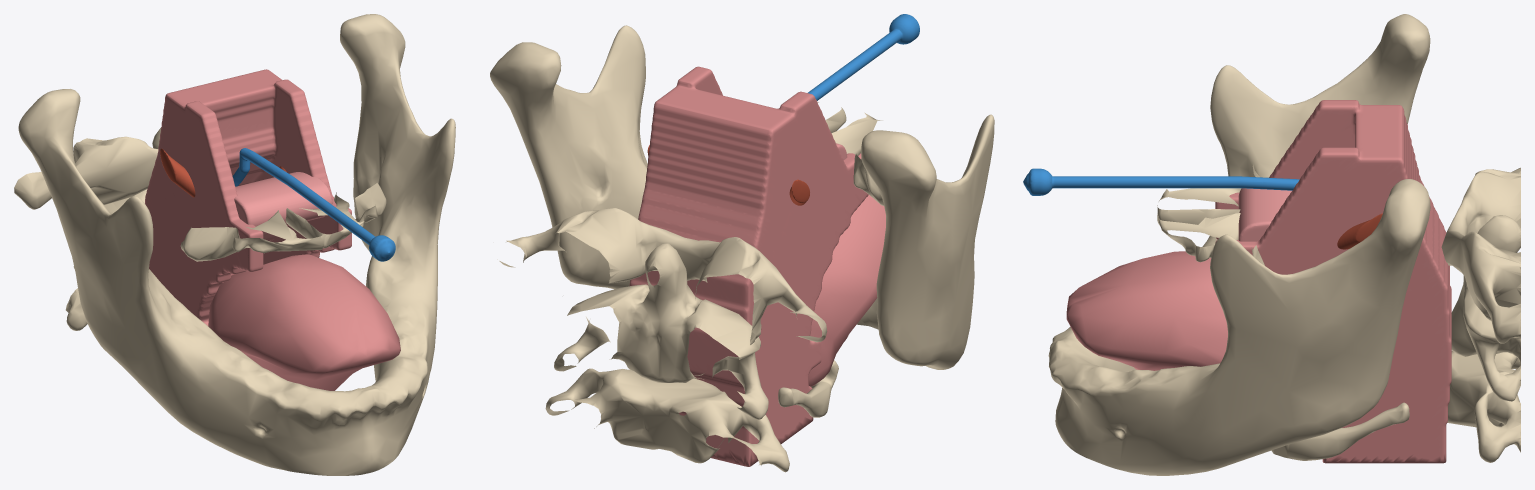
File: rest-whole.glb
3 renders of one model, left to right at view 1: azimuth 30°, elevation 25°; view 2: azimuth 150°, elevation 25°; view 3: azimuth 270°, elevation 25°, orthographic. The views are drawn at different scales.
Parts seen in each view (by area): view 1: bone (×5), mucosa, tongue, soft, air, muscle; view 2: bone (×6), mucosa, tongue, air; view 3: bone (×7), mucosa, tongue, air, soft, muscle.
Boxes of the visible parts, bbox=[...] form: bone (×5): bbox=[14, 14, 455, 475]; mucosa: bbox=[145, 69, 351, 325]; tongue: bbox=[208, 254, 400, 390]; soft: bbox=[234, 172, 332, 241]; air: bbox=[232, 148, 395, 261]; muscle: bbox=[160, 148, 286, 197]; bone (×6): bbox=[490, 25, 994, 472]; mucosa: bbox=[629, 66, 868, 466]; tongue: bbox=[808, 195, 885, 386]; air: bbox=[808, 14, 919, 100]; bone (×7): bbox=[1048, 14, 1520, 475]; mucosa: bbox=[1215, 100, 1451, 463]; tongue: bbox=[1066, 251, 1227, 370]; air: bbox=[1023, 168, 1299, 195]; soft: bbox=[1238, 188, 1291, 241]; muscle: bbox=[1337, 213, 1382, 249].
Size of the model in its own units: 106 by 81.1 by 109.
